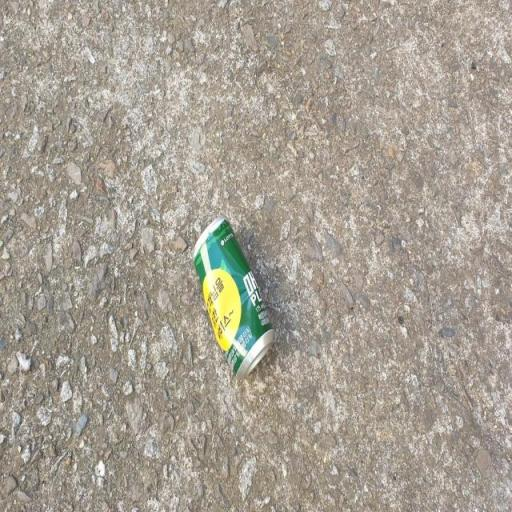metal: (182, 198, 282, 400)
